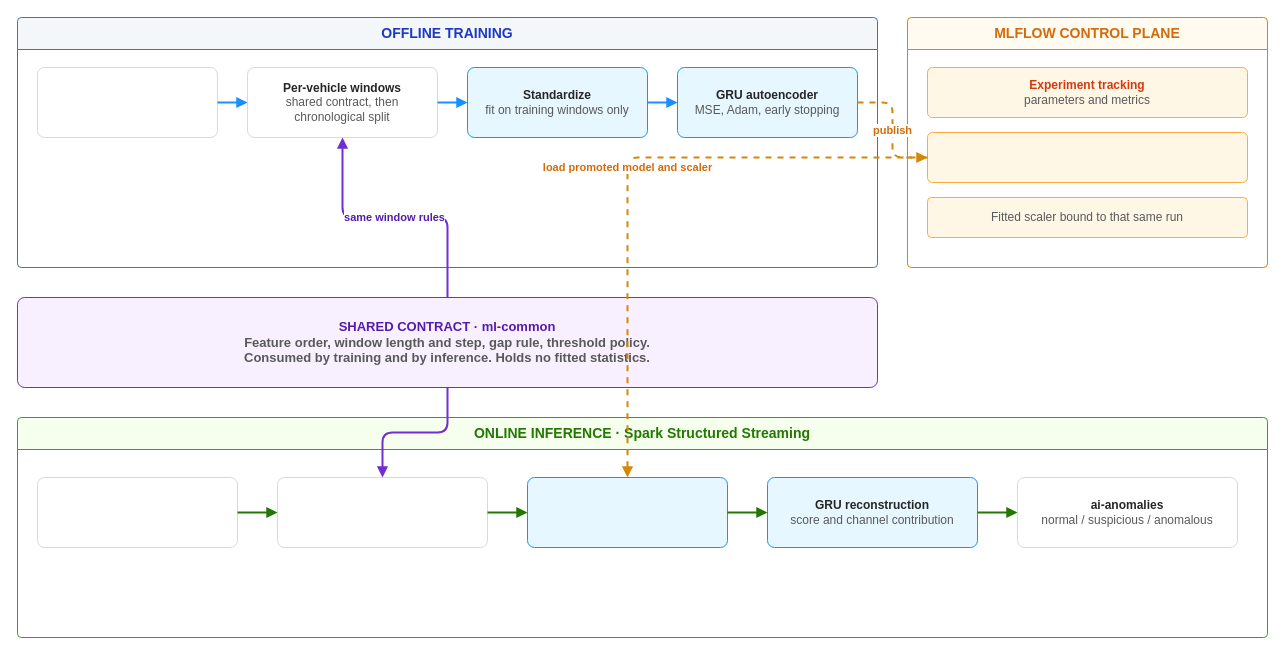
This 1285x655 diagram has some shape labels left out. Here are the shapes that lost their labels. From the top down, the centre of each, then its label:
At pixel 127 102: "Silver snapshot fleet_features, consistent read".
At pixel 1087 157: "Model Registry promoted production version".
At pixel 137 512: "fleet-features Redpanda micro-batches".
At pixel 382 512: "Per-vehicle windows contract validation and gap rule".
At pixel 627 512: "Promoted scaler training mean and variance".
